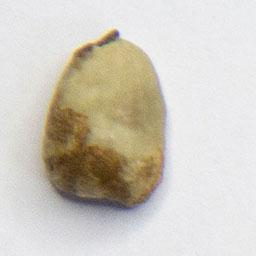defect: (37, 24, 171, 213)
